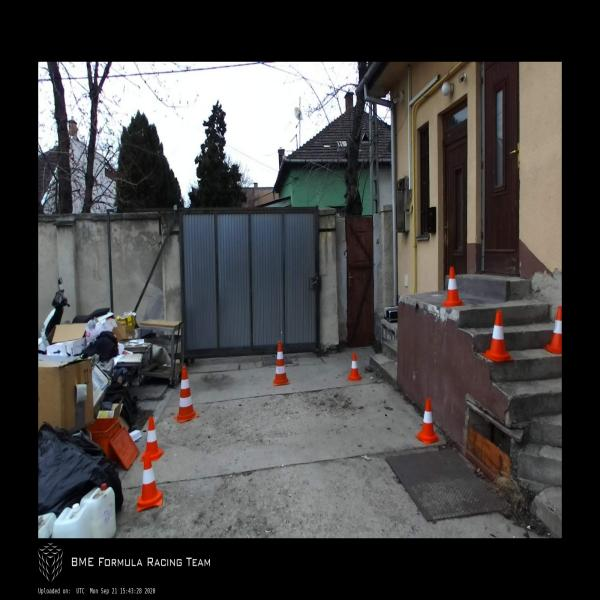large_orange_cone: (174, 366, 199, 423), (273, 342, 290, 386)
orange_cone: (481, 310, 514, 362), (137, 452, 162, 512), (415, 398, 440, 445), (140, 417, 165, 461), (442, 267, 465, 307), (544, 306, 562, 354), (346, 352, 362, 381)
